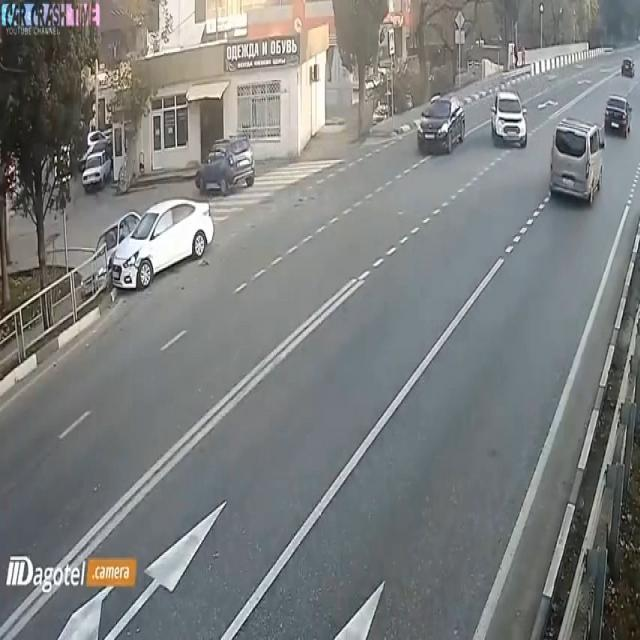Accident: (94, 193, 208, 291)
